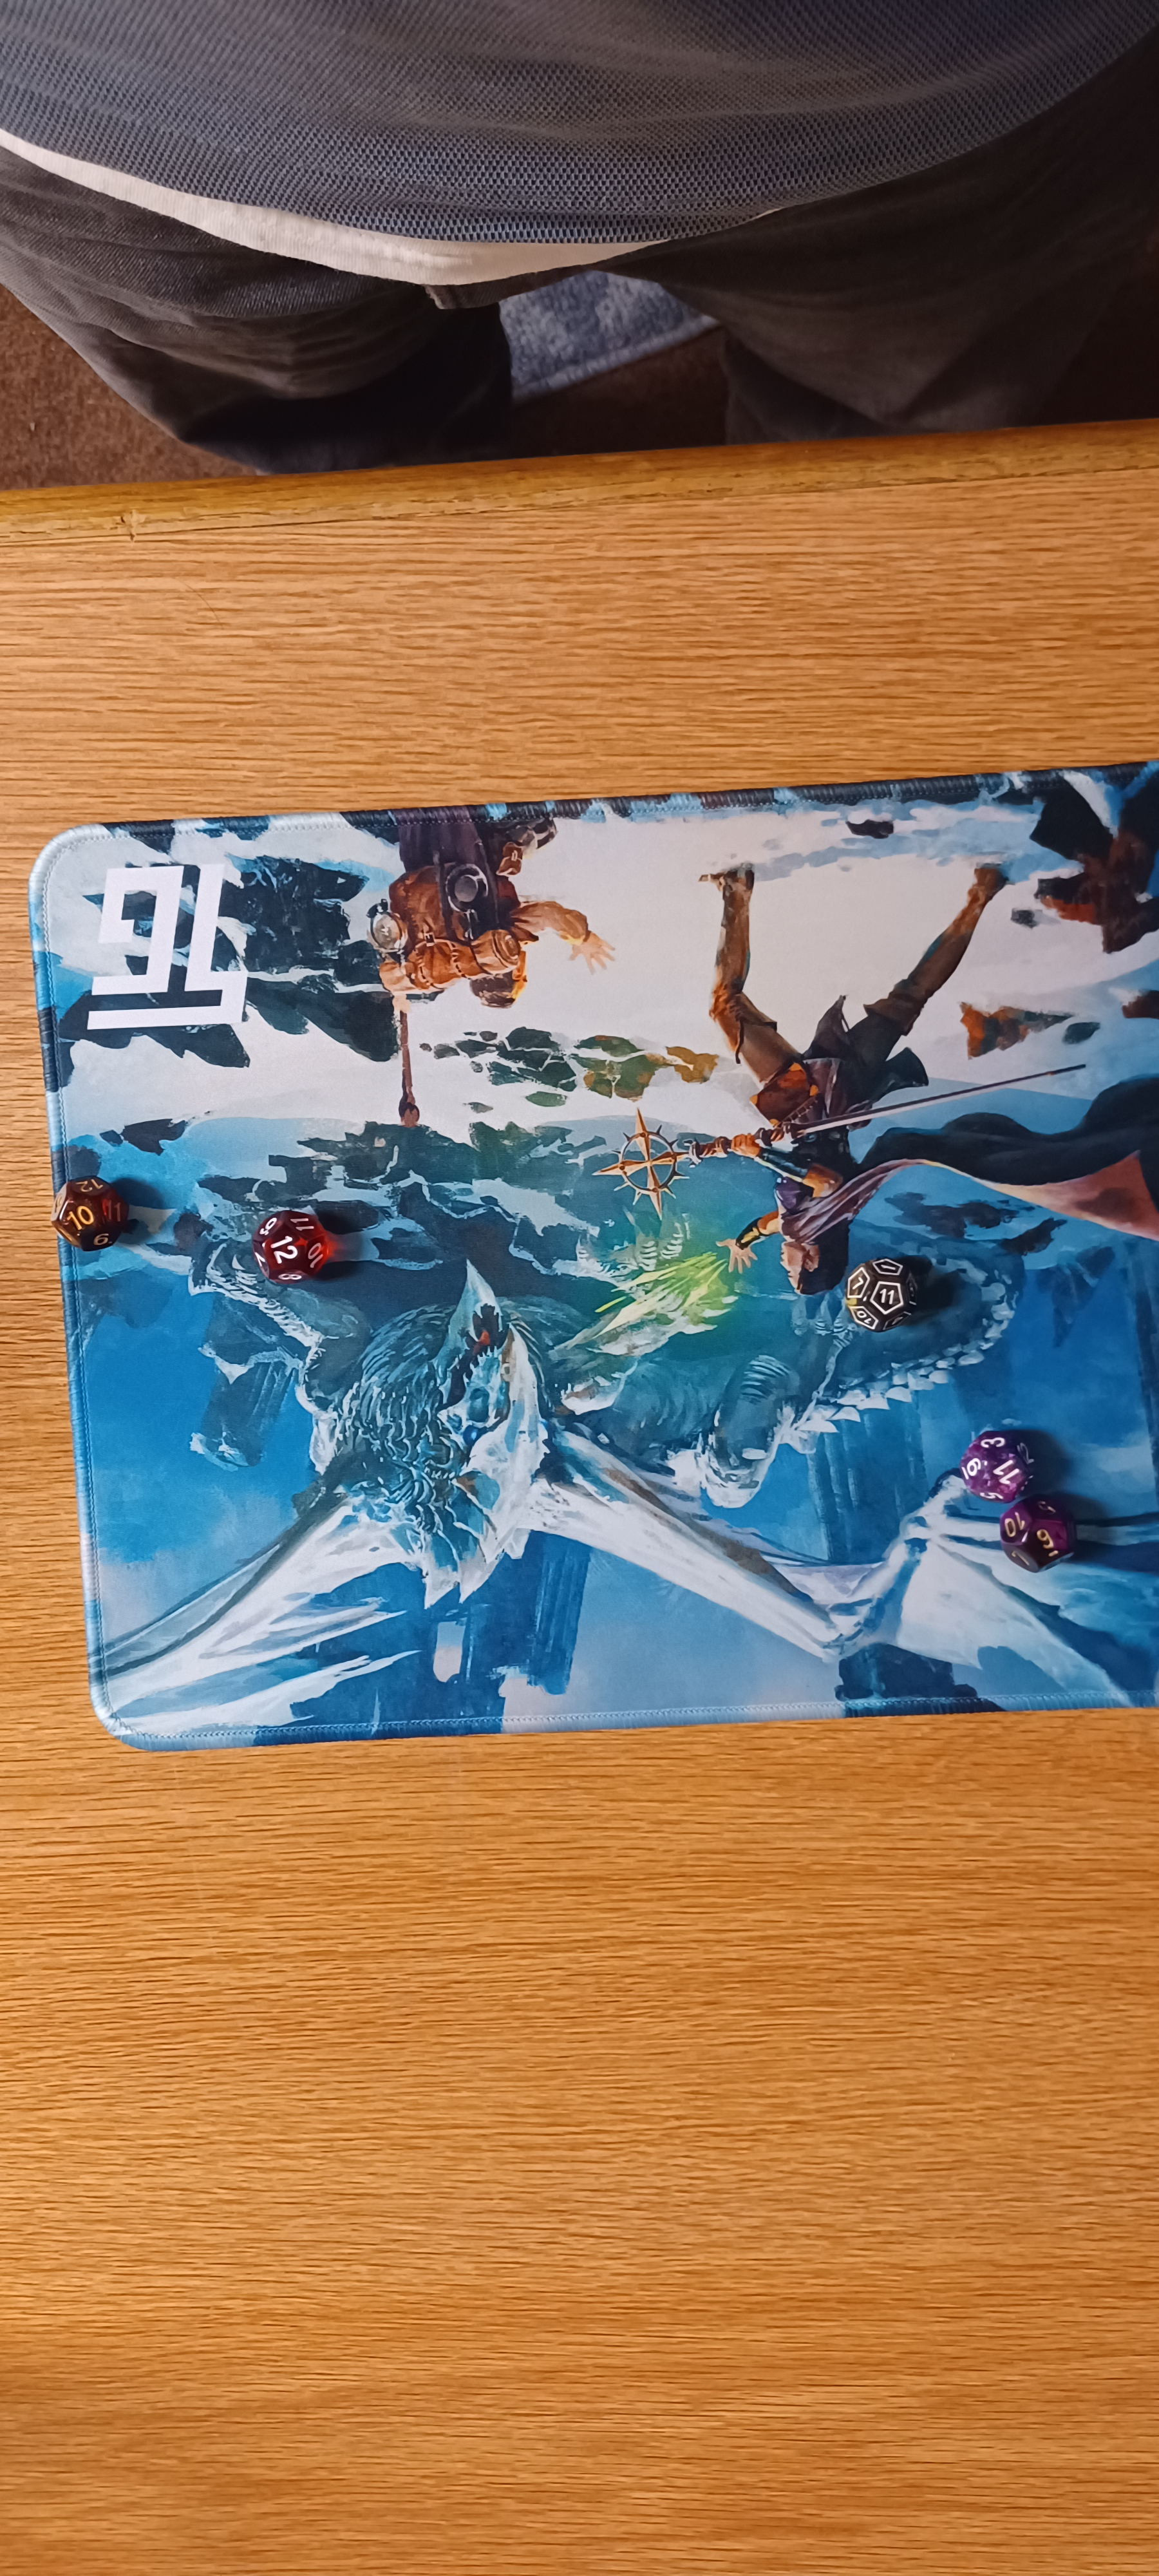eleven: (819, 1237, 937, 1347), (947, 1421, 1044, 1511)
nine: (988, 1500, 1082, 1579)
ten: (23, 1163, 141, 1273)
twelve: (227, 1196, 361, 1291)
